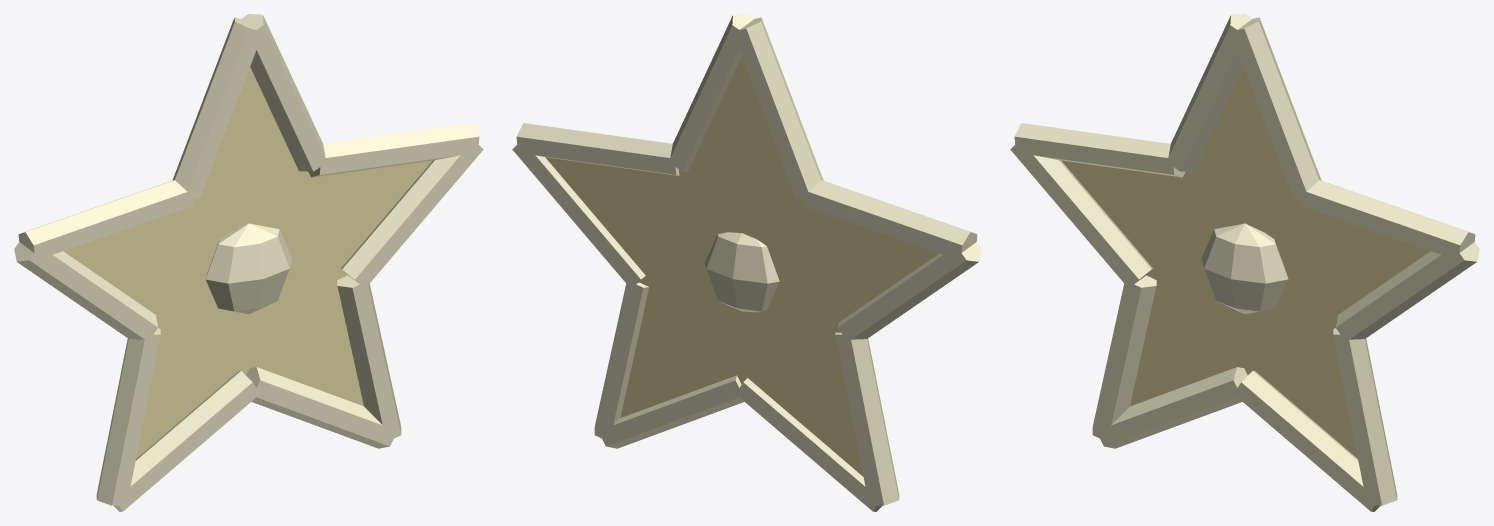
Rendered from simbolo_estrella.glb.
3 renders of one model, left to right at view 1: azimuth 30°, elevation 25°; view 2: azimuth 150°, elevation 25°; view 3: azimuth 330°, elevation 25°, orthographic.
Parts seen in each view (by area): view 1: simbolo_estrella; view 2: simbolo_estrella; view 3: simbolo_estrella.
Part boxes in pixels (<box>): simbolo_estrella: <box>14,14,483,511</box>; simbolo_estrella: <box>512,14,981,511</box>; simbolo_estrella: <box>1010,14,1479,511</box>.
Size of the model in its own units: 0.8551 by 0.8133 by 0.09.
